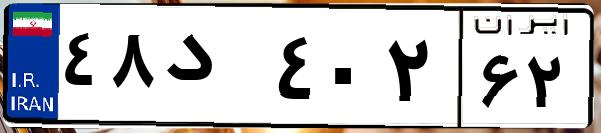0: (330, 28, 385, 110)
2: (385, 28, 445, 110), (525, 38, 570, 115)
4: (270, 28, 330, 110), (57, 26, 110, 100)
6: (475, 38, 525, 113)
8: (110, 28, 158, 98)
د: (158, 20, 270, 120)
